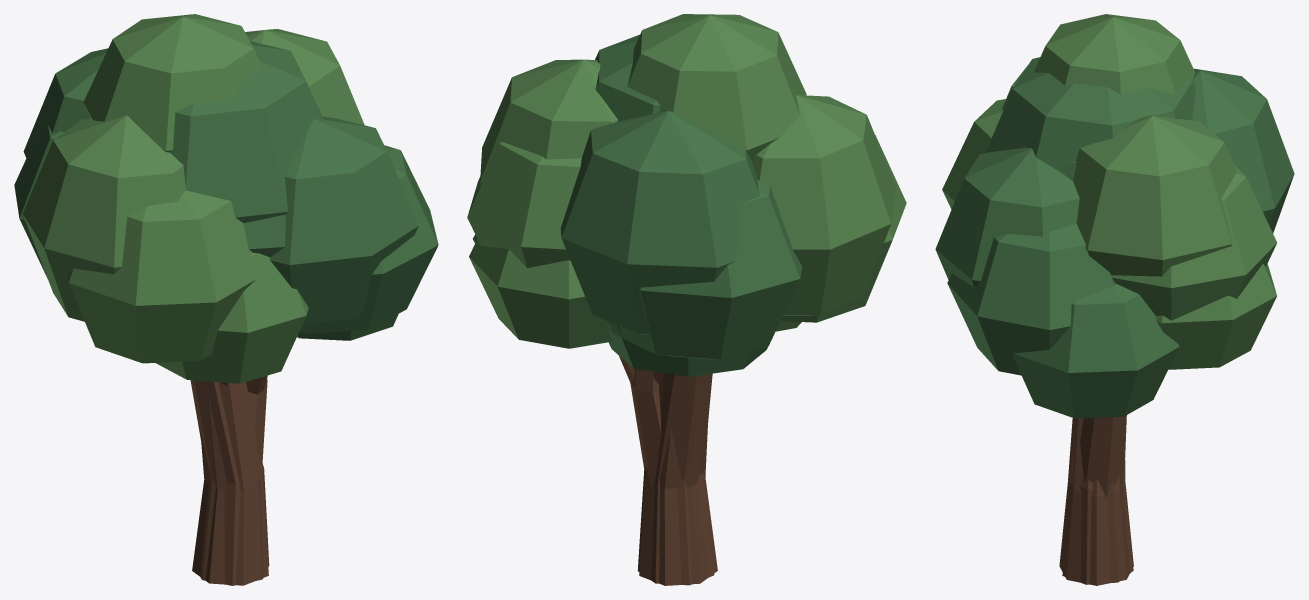
Rendered from tree_oak.glb.
3 renders of one model, left to right at view 1: azimuth 30°, elevation 25°; view 2: azimuth 150°, elevation 25°; view 3: azimuth 270°, elevation 25°, orthographic. The views are drawn at different scales.
Parts seen in each view (by area): view 1: Oak_cluster_canopy.001, Oak_cluster_canopy.014, Oak_cluster_canopy.013, Oak_cluster_canopy.012, Oak_cluster_canopy.017, Oak_cluster_canopy.007, Oak_stout_trunk, Oak_stout_trunk.002, Oak_cluster_canopy.002, Oak_cluster_canopy.016, Oak_cluster_canopy.015, Oak_cluster_canopy.003 (+3 smaller); view 2: Oak_cluster_canopy.015, Oak_cluster_canopy.013, Oak_cluster_canopy.017, Oak_cluster_canopy.003, Oak_cluster_canopy.004, Oak_cluster_canopy.016, Oak_cluster_canopy.010, Oak_stout_trunk.002, Oak_stout_trunk, Oak_cluster_canopy.012, Oak_cluster_canopy.009, Oak_stout_trunk.001 (+1 smaller); view 3: Oak_cluster_canopy.016, Oak_cluster_canopy.008, Oak_cluster_canopy.002, Oak_cluster_canopy.014, Oak_cluster_canopy.012, Oak_cluster_canopy.017, Oak_cluster_canopy.004, Oak_cluster_canopy.015, Oak_cluster_canopy.010, Oak_stout_trunk, Oak_stout_trunk.001, Oak_stout_trunk.002 (+1 smaller).
Part boxes in pixels (<box>): Oak_cluster_canopy.001: <box>66,190,256,363</box>; Oak_cluster_canopy.014: <box>270,116,418,323</box>; Oak_cluster_canopy.013: <box>23,115,186,321</box>; Oak_cluster_canopy.012: <box>170,41,322,223</box>; Oak_cluster_canopy.017: <box>83,14,261,152</box>; Oak_cluster_canopy.007: <box>156,253,308,383</box>; Oak_stout_trunk: <box>192,382,268,585</box>; Oak_stout_trunk.002: <box>190,380,269,585</box>; Oak_cluster_canopy.002: <box>299,145,438,333</box>; Oak_cluster_canopy.016: <box>245,29,364,125</box>; Oak_cluster_canopy.015: <box>23,48,107,161</box>; Oak_cluster_canopy.003: <box>14,125,63,277</box>; Oak_cluster_canopy.015: <box>560,111,759,334</box>; Oak_cluster_canopy.013: <box>752,95,896,315</box>; Oak_cluster_canopy.017: <box>627,14,806,161</box>; Oak_cluster_canopy.003: <box>607,179,801,359</box>; Oak_cluster_canopy.004: <box>467,142,581,268</box>; Oak_cluster_canopy.016: <box>480,59,617,184</box>; Oak_cluster_canopy.010: <box>469,239,612,348</box>; Oak_stout_trunk.002: <box>637,373,714,585</box>; Oak_stout_trunk: <box>639,375,717,585</box>; Oak_cluster_canopy.012: <box>595,34,660,121</box>; Oak_cluster_canopy.009: <box>607,321,780,376</box>; Oak_stout_trunk.001: <box>630,369,661,488</box>; Oak_cluster_canopy.016: <box>1073,115,1237,276</box>; Oak_cluster_canopy.008: <box>1013,283,1179,418</box>; Oak_cluster_canopy.002: <box>947,223,1115,375</box>; Oak_cluster_canopy.014: <box>935,147,1079,287</box>; Oak_cluster_canopy.012: <box>985,57,1195,171</box>; Oak_cluster_canopy.017: <box>1034,14,1195,94</box>; Oak_cluster_canopy.004: <box>1111,165,1277,320</box>; Oak_cluster_canopy.015: <box>1192,68,1294,233</box>; Oak_cluster_canopy.010: <box>1156,264,1276,369</box>; Oak_stout_trunk: <box>1059,418,1133,585</box>; Oak_stout_trunk.001: <box>1080,415,1126,497</box>; Oak_stout_trunk.002: <box>1062,415,1133,584</box>.
Bounding box in the file's own units: 2.43 × 3.39 × 2.07.
